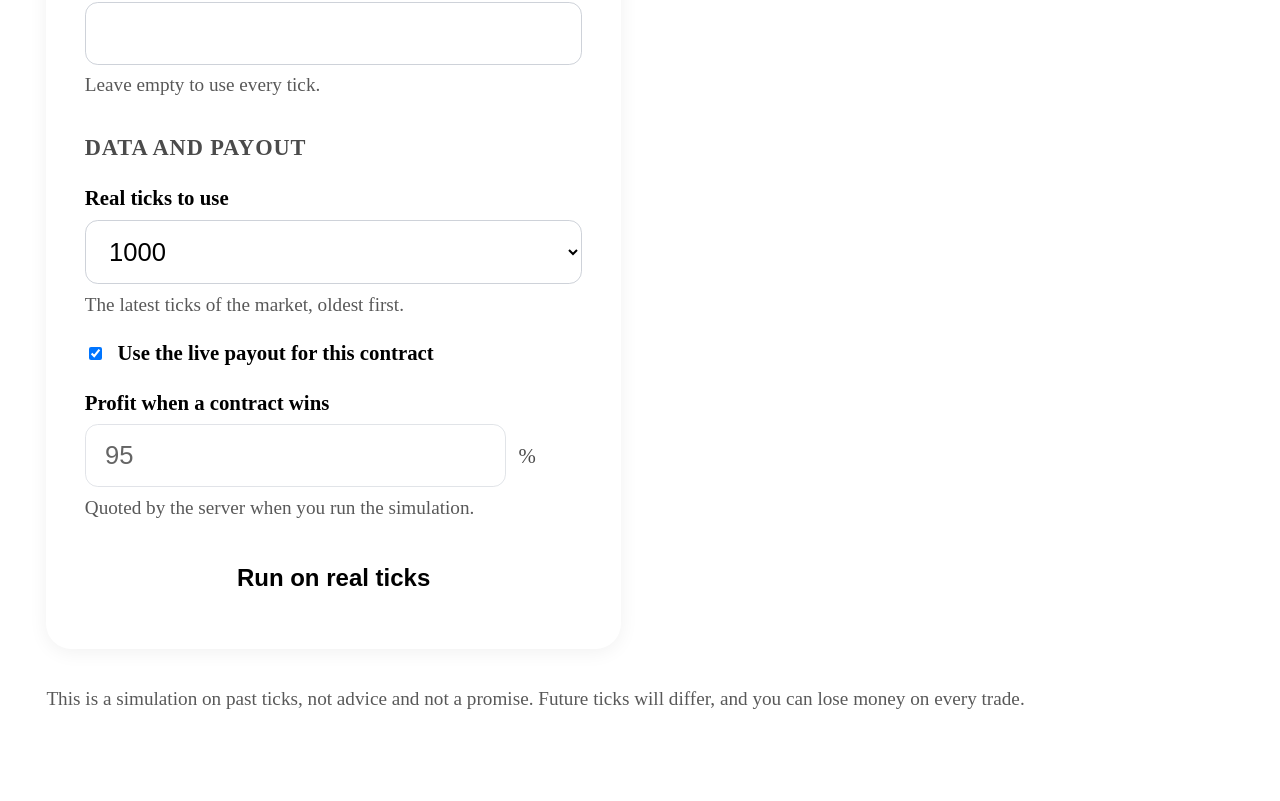
Test: <BulkTrader /> › uses the payout the user typed when the live quote fails, and says so
The image size is (1280, 801).
(page scrolled)
Click the button with test id "dt_bulk_run" at (334,578), box [85, 545, 582, 611]
(page scrolled)
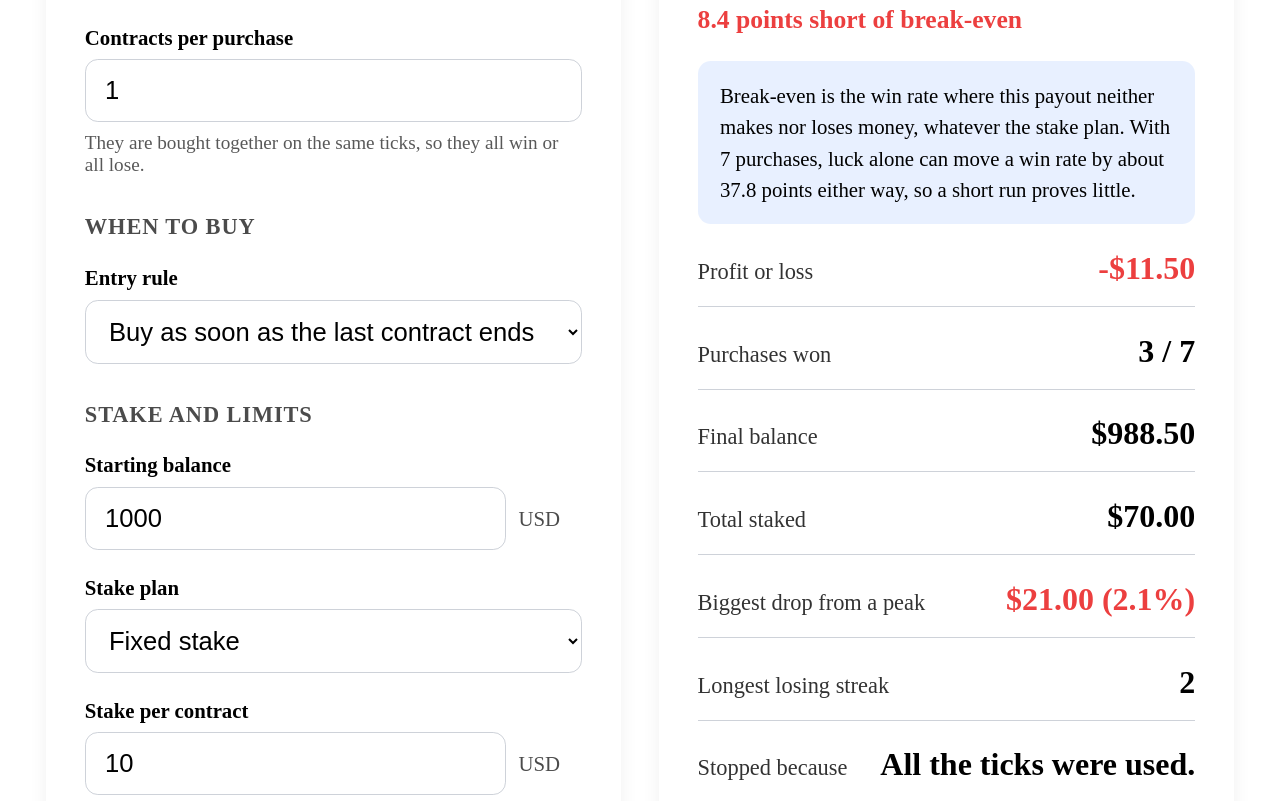
expect the text with test id "dt_bulk_wins" reads "3 / 7": met, box [1138, 332, 1195, 368]
